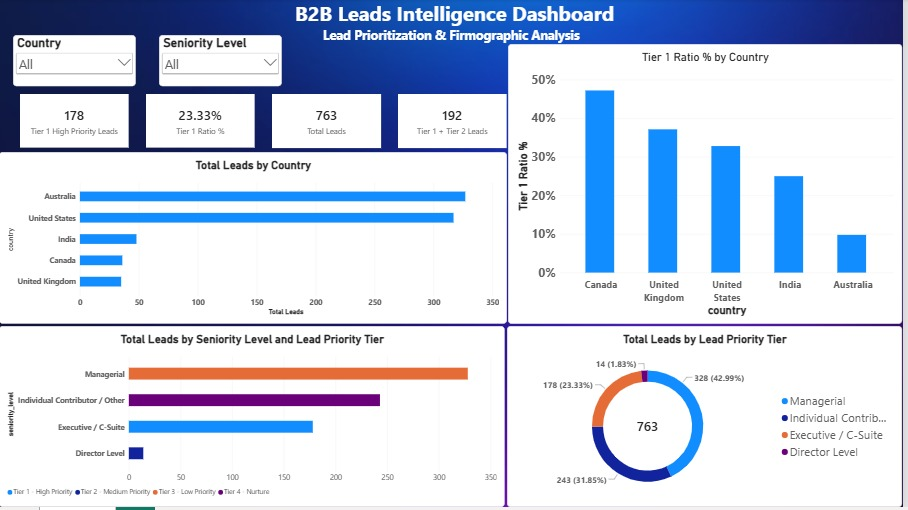

The page's visual inventory and layout, read from the dashboard file:
{"tool":"powerbi","page":{"name":"Page 1","canvas":[1920,1080],"ordinal":0},"visuals":[{"type":"slicer","fields":{"Values":["vw_prioritized_b2b_leads.country"]},"box":[30,77.1,261.1,109.2],"z":0},{"type":"slicer","fields":{"Values":["vw_prioritized_b2b_leads.seniority_level"]},"box":[340.3,77.1,261.1,109],"z":1000},{"type":"card","fields":{"Values":["_Measures.Tier 1 High Priority Leads"]},"box":[44.6,202,231,114],"z":2000},{"type":"card","fields":{"Values":["_Measures.Tier 1 Ratio %"]},"box":[312.3,202,231,114],"z":3000},{"type":"card","fields":{"Values":["_Measures.Tier 1 + Tier 2 Leads"]},"box":[848.3,202,231,114.8],"z":4000},{"type":"card","fields":{"Values":["_Measures.Total Leads"]},"box":[579.9,202,231.7,114.8],"z":5000},{"type":"barChart","title":"Total Leads by Seniority Level and Lead Priority Tier","fields":{"Category":["vw_prioritized_b2b_leads.seniority_level"],"Series":["vw_prioritized_b2b_leads.lead_priority_tier"],"Y":["_Measures.Total Leads"]},"box":[0,695.2,1075,384.8],"z":7000},{"type":"clusteredBarChart","title":"Total Leads by Country","fields":{"Category":["vw_prioritized_b2b_leads.country"],"Y":["_Measures.Total Leads"]},"box":[0,325.3,1080,365],"z":8000},{"type":"clusteredColumnChart","title":"Tier 1 Ratio % by Country","fields":{"Category":["vw_prioritized_b2b_leads.country"],"Y":["_Measures.Tier 1 Ratio %"]},"box":[1082.1,95.7,837.6,595],"z":9000},{"type":"textbox","box":[17.1,0,1902.9,57.8],"z":10000},{"type":"textbox","box":[573.6,57.8,774.8,38.5],"z":11000},{"type":"donutChart","title":"Total Leads by Lead Priority Tier","fields":{"Category":["vw_prioritized_b2b_leads.seniority_level"],"Y":["_Measures.Total Leads"]},"box":[1080,695.2,839.8,384.8],"z":12000}]}

Visuals, with their boxes in screenshot pixels (x1, y1, x2, y2), scaled from the page's 1920x1080 canvas onto the 908x510 screenshot:
slicer - vw_prioritized_b2b_leads.country: <bbox>14, 36, 138, 88</bbox>
slicer - vw_prioritized_b2b_leads.seniority_level: <bbox>161, 36, 284, 88</bbox>
card - _Measures.Tier 1 High Priority Leads: <bbox>21, 95, 130, 149</bbox>
card - _Measures.Tier 1 Ratio %: <bbox>148, 95, 257, 149</bbox>
card - _Measures.Tier 1 + Tier 2 Leads: <bbox>401, 95, 510, 150</bbox>
card - _Measures.Total Leads: <bbox>274, 95, 384, 150</bbox>
"Total Leads by Seniority Level and Lead Priority Tier" barChart: <bbox>0, 328, 508, 509</bbox>
"Total Leads by Country" clusteredBarChart: <bbox>0, 154, 511, 326</bbox>
"Tier 1 Ratio % by Country" clusteredColumnChart: <bbox>512, 45, 907, 326</bbox>
textbox: <bbox>8, 0, 907, 27</bbox>
textbox: <bbox>271, 27, 638, 45</bbox>
"Total Leads by Lead Priority Tier" donutChart: <bbox>511, 328, 907, 509</bbox>
